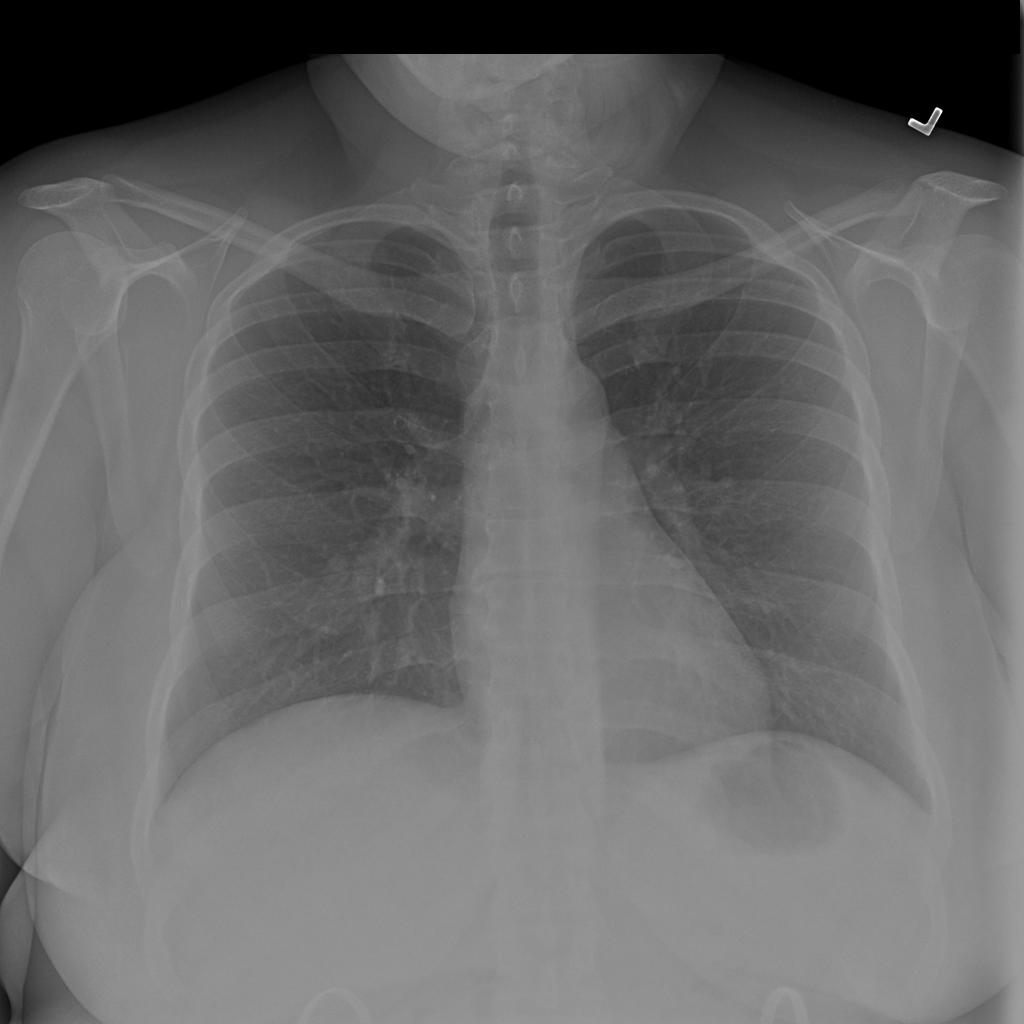nodule: (313, 543, 363, 594)
